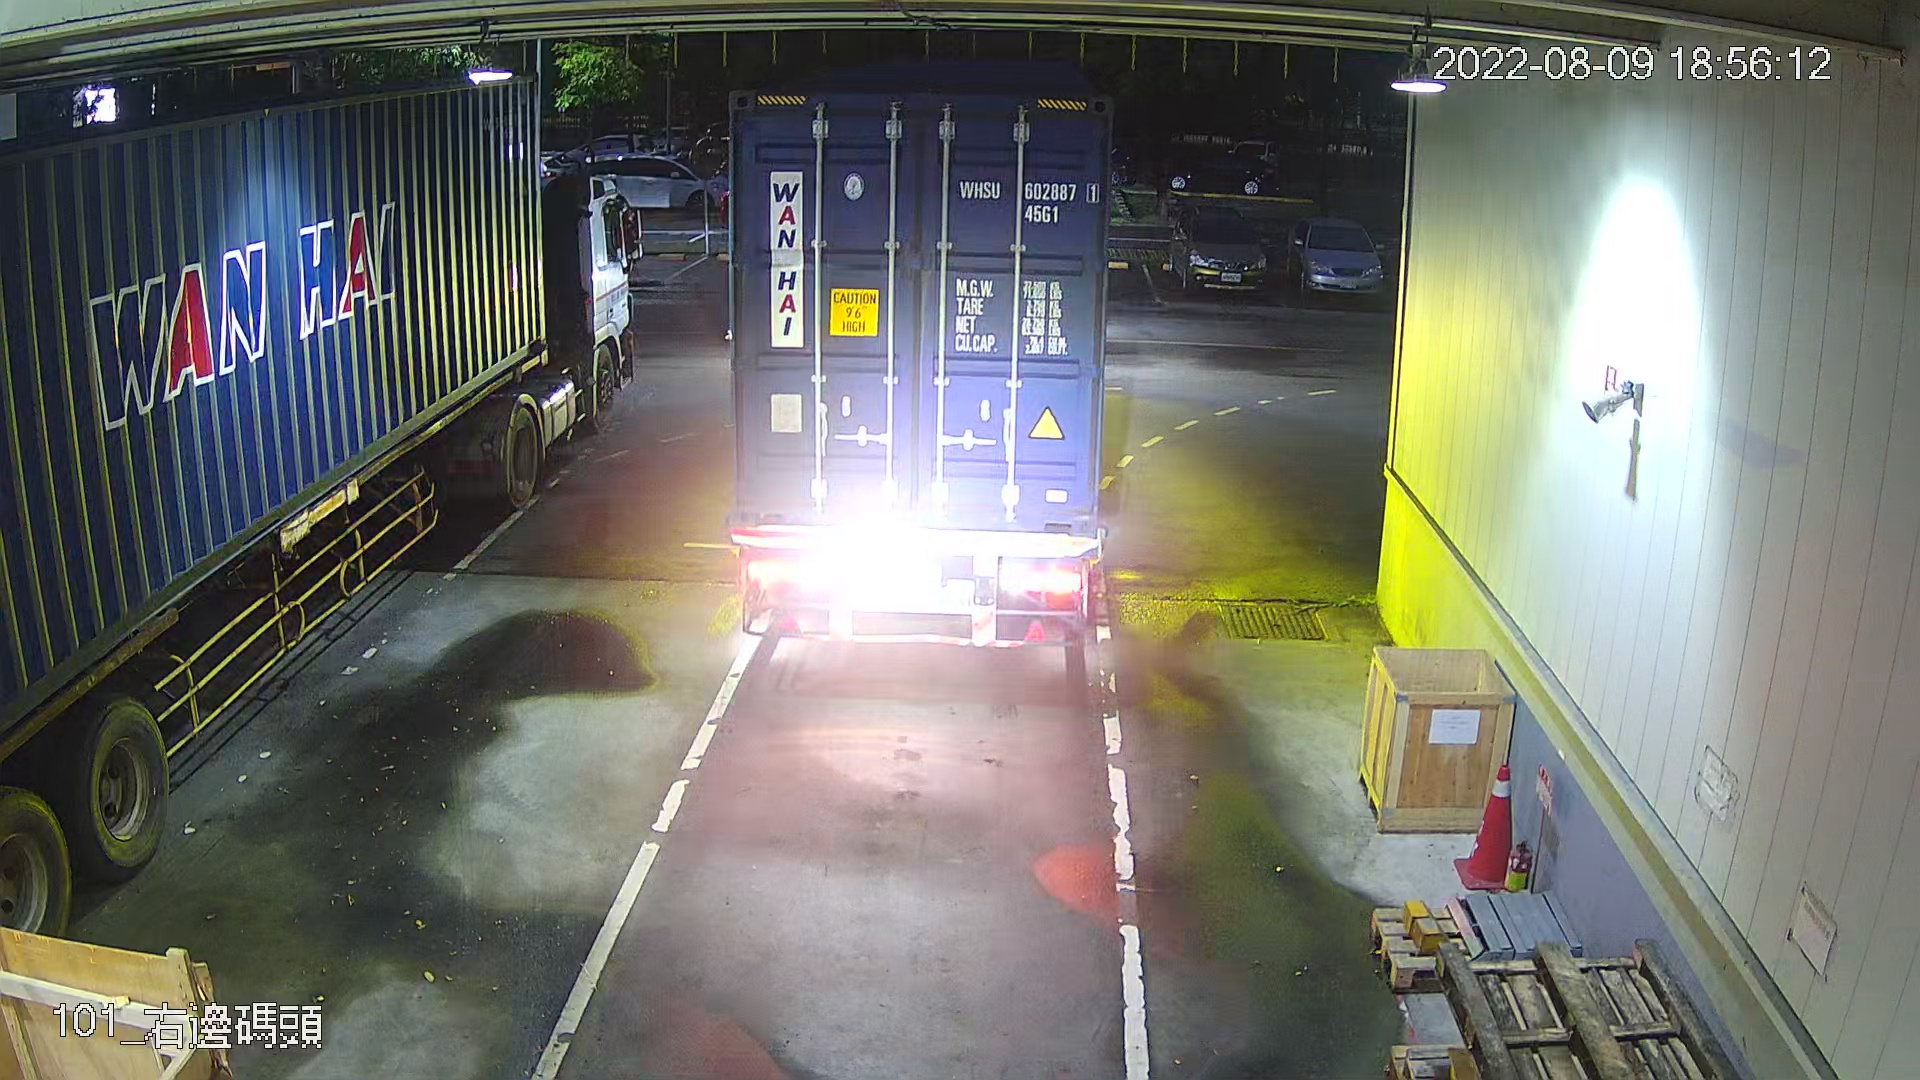container: (953, 173, 1102, 232)
